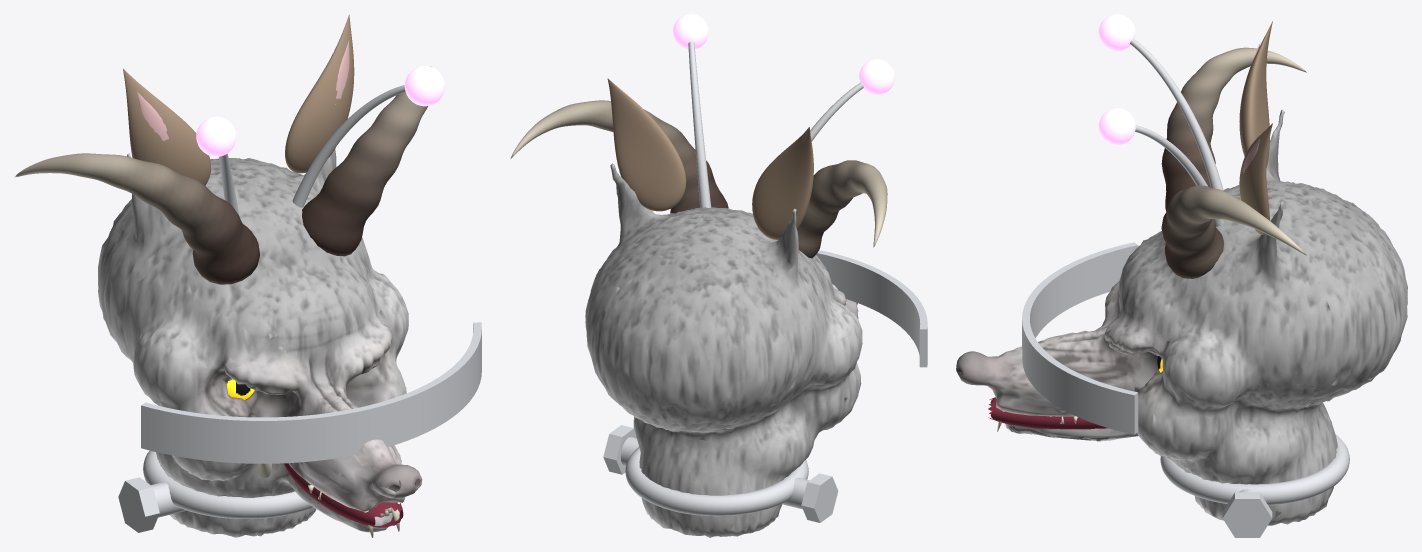
Rendered from beast.glb.
The picture shows the model from 3 angles, left to right: view 1: azimuth 30°, elevation 25°; view 2: azimuth 150°, elevation 25°; view 3: azimuth 270°, elevation 25°; orthographic projection. The views are drawn at different scales.
Visible parts, largest first — view 1: Head, Horns, Visor, AnimalEars, Antennae, Collar; view 2: Head, AnimalEars, Horns, Visor, Collar, Antennae; view 3: Head, Visor, Horns, Antennae, AnimalEars, Collar.
Part boxes in pixels (x1=…): Head: x1=98, y1=149, x2=422, y2=537; Horns: x1=14, y1=66, x2=431, y2=284; Visor: x1=118, y1=322, x2=481, y2=532; AnimalEars: x1=123, y1=14, x2=354, y2=185; Antennae: x1=196, y1=66, x2=444, y2=214; Collar: x1=143, y1=450, x2=312, y2=518; Head: x1=585, y1=163, x2=862, y2=537; AnimalEars: x1=607, y1=78, x2=813, y2=239; Horns: x1=510, y1=100, x2=887, y2=258; Visor: x1=603, y1=250, x2=927, y2=522; Collar: x1=625, y1=447, x2=808, y2=516; Antennae: x1=673, y1=14, x2=894, y2=208; Head: x1=956, y1=109, x2=1407, y2=525; Visor: x1=1022, y1=242, x2=1272, y2=537; Horns: x1=1161, y1=47, x2=1306, y2=278; Antennae: x1=1098, y1=14, x2=1223, y2=226; AnimalEars: x1=1239, y1=21, x2=1272, y2=234; Collar: x1=1160, y1=434, x2=1349, y2=505.
Size of the model in its own units: 2.79 by 3.09 by 2.91.
13 materials, 1 textured.
